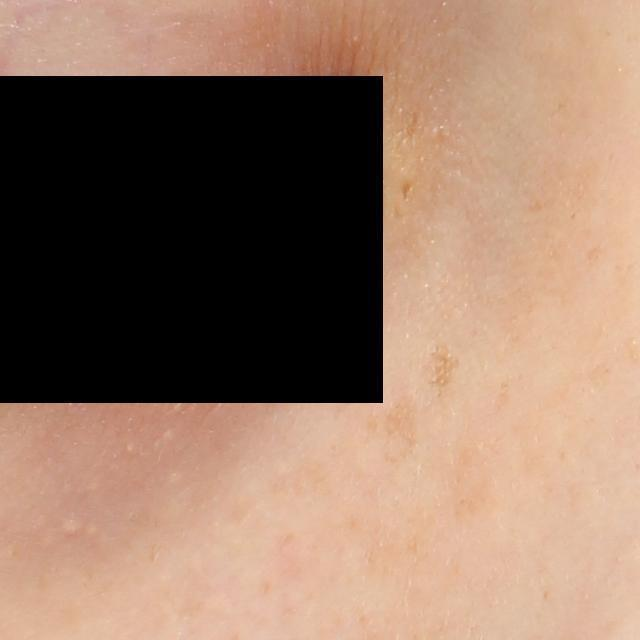melasma: (330, 382, 423, 473), (446, 425, 506, 528), (418, 341, 466, 400)
other: (60, 517, 82, 537)
